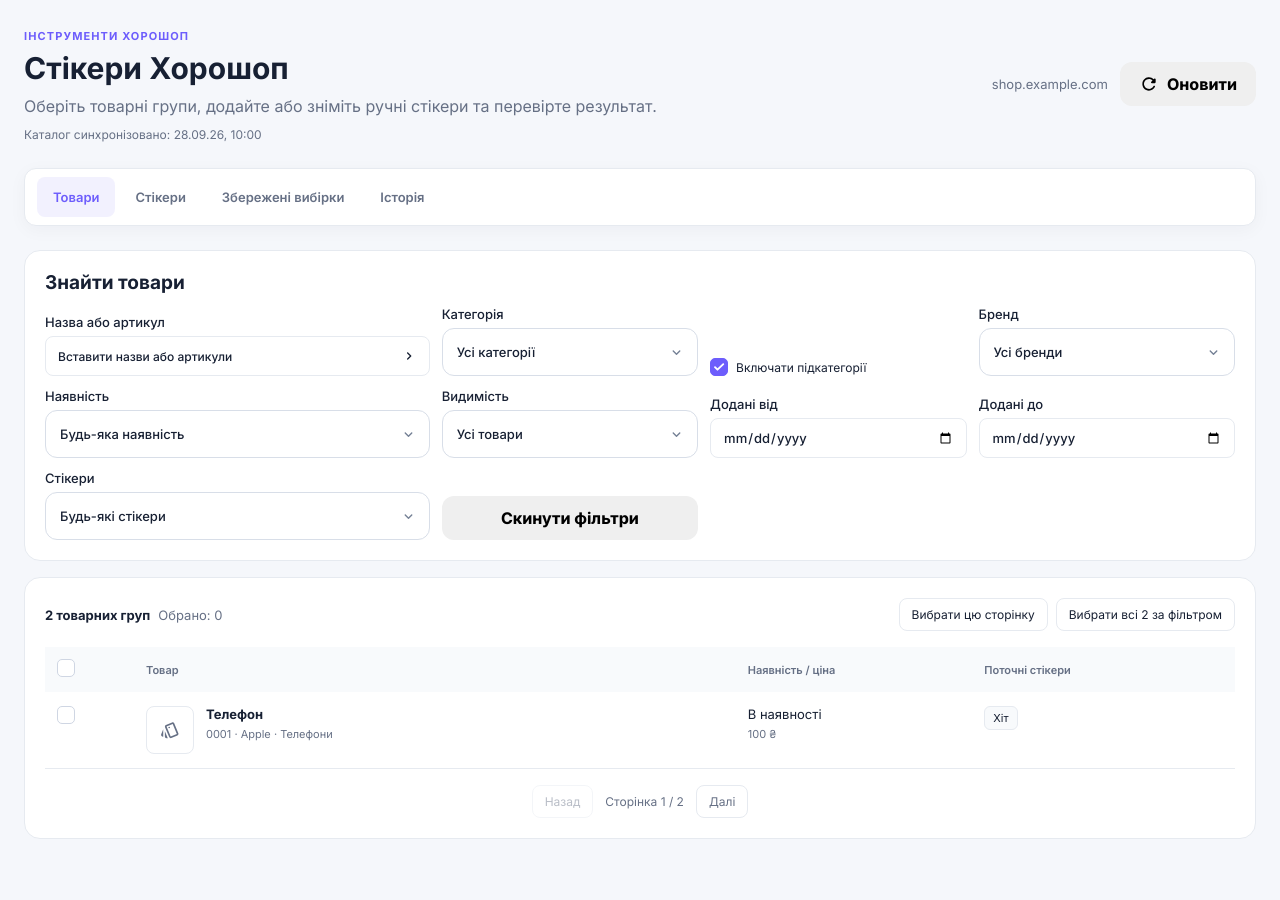
Test case: HoroshopStickersPage › clears preparation after failure and preserves the selected products and sticker actions for retry
This screenshot has width=1280, height=900.
Click the checkbox named "Обрати 0001".
click(66, 715)  # box [57, 706, 75, 724]
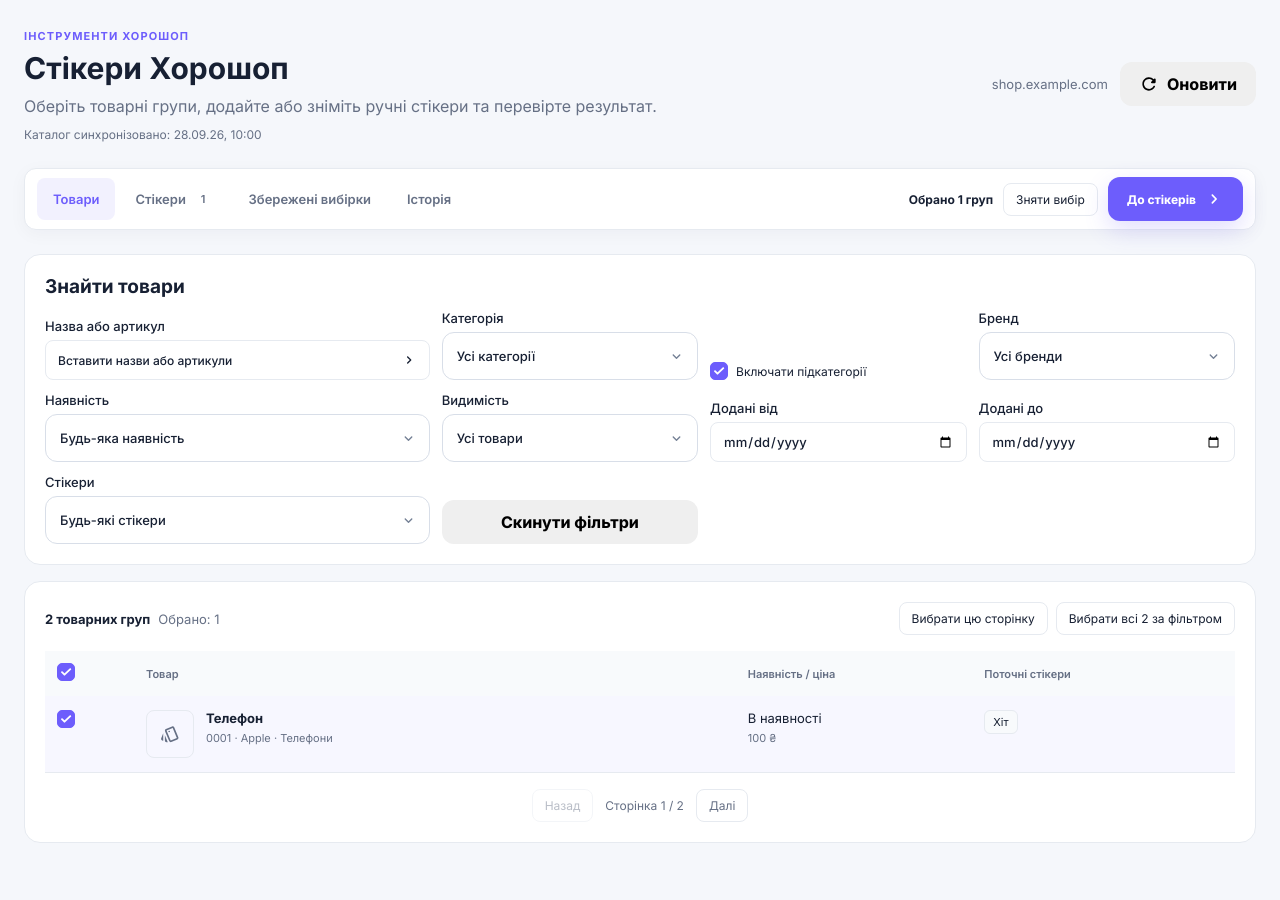
Click the tab "Стікери 1".
click(174, 199)  # box [120, 178, 228, 220]
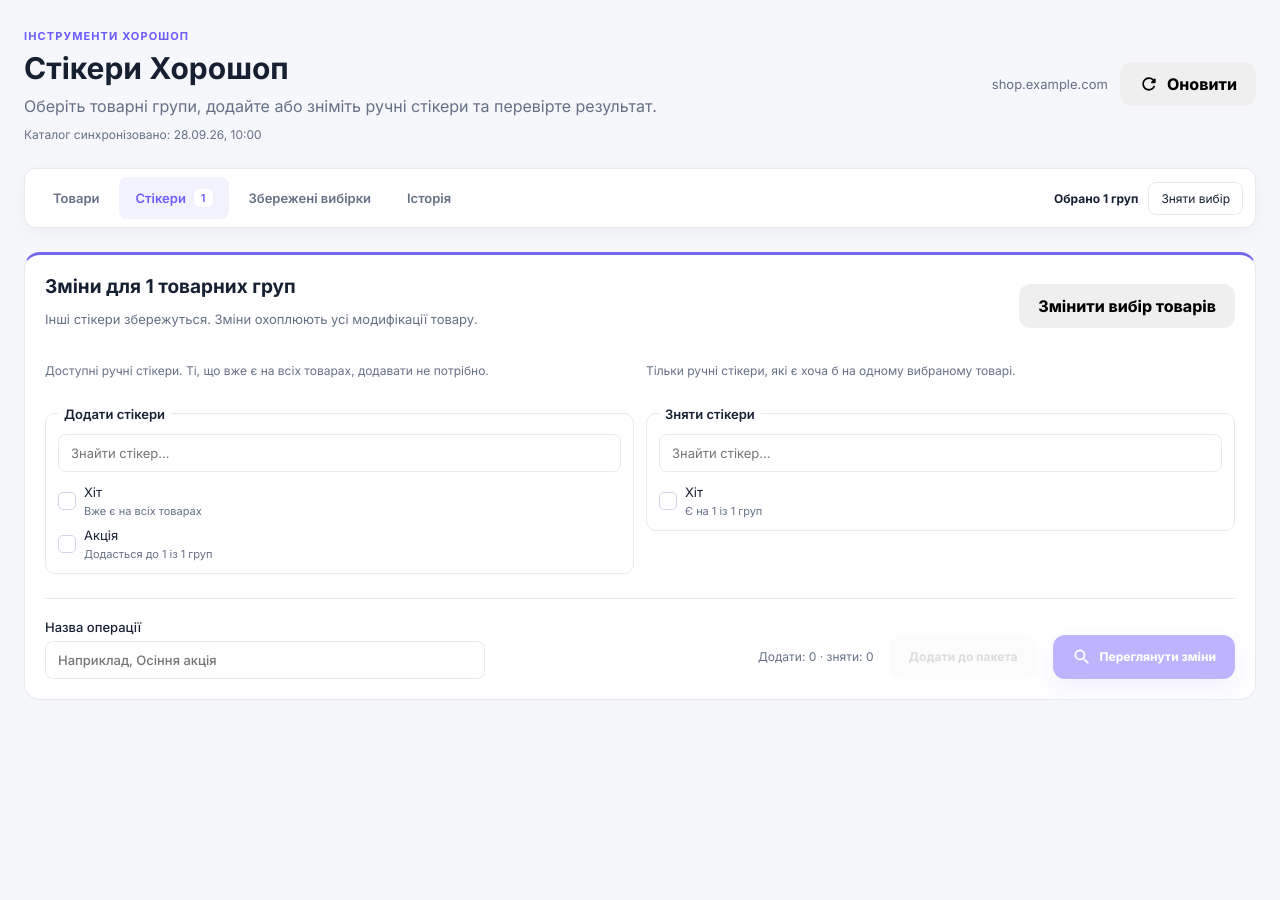
Click the checkbox named "Додати стікери: Акція".
click(67, 544)  # box [58, 534, 76, 552]
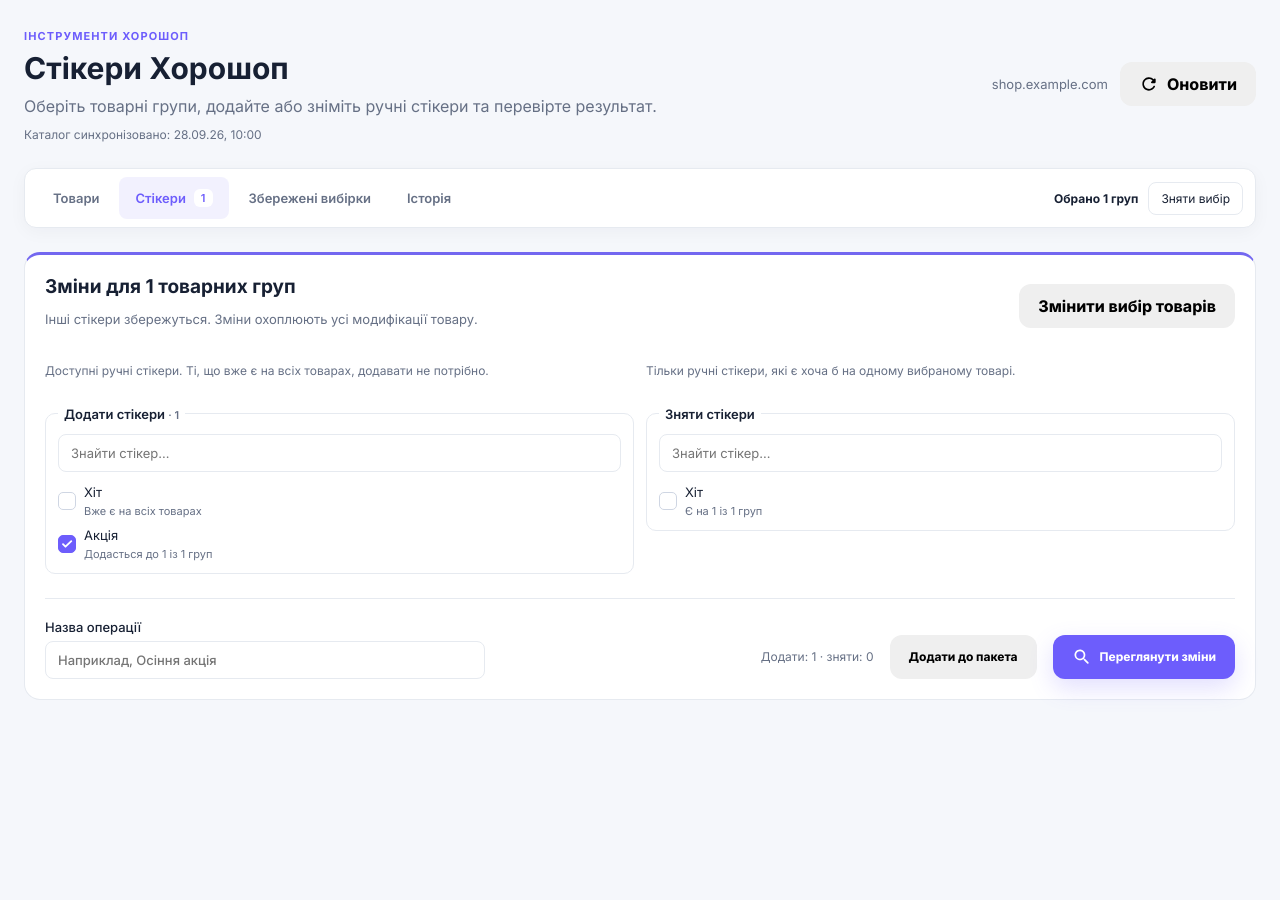
Click the button "Переглянути зміни".
click(1144, 656)  # box [1052, 634, 1235, 678]
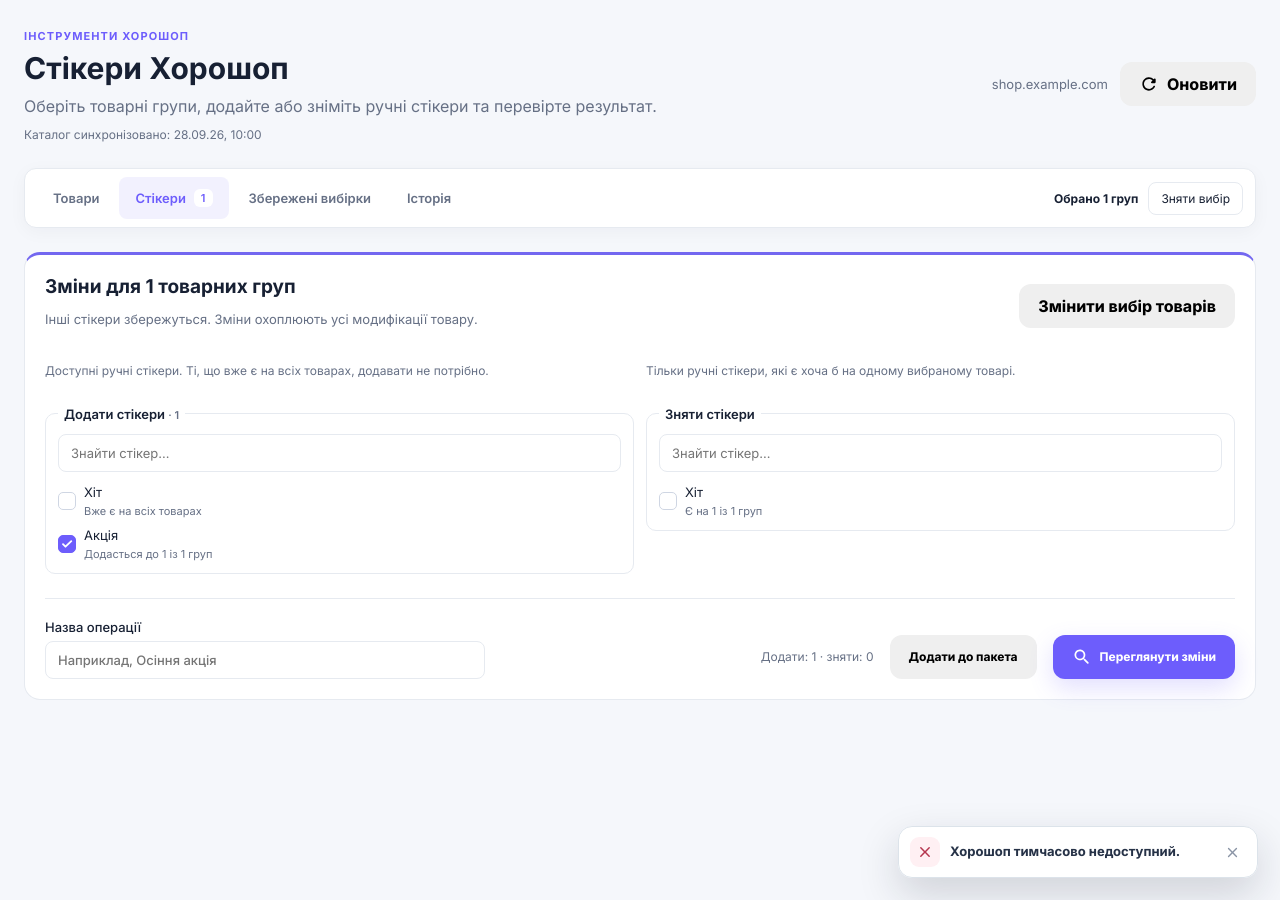
Result: the checkbox named "Додати стікери: Акція" is checked at [58, 534, 76, 552]
Result: the button "Переглянути зміни" is enabled
Result: the text "Хорошоп тимчасово недоступний." is shown at [950, 843, 1208, 861]
Click the button "Переглянути зміни".
click(1144, 656)  # box [1052, 634, 1235, 678]
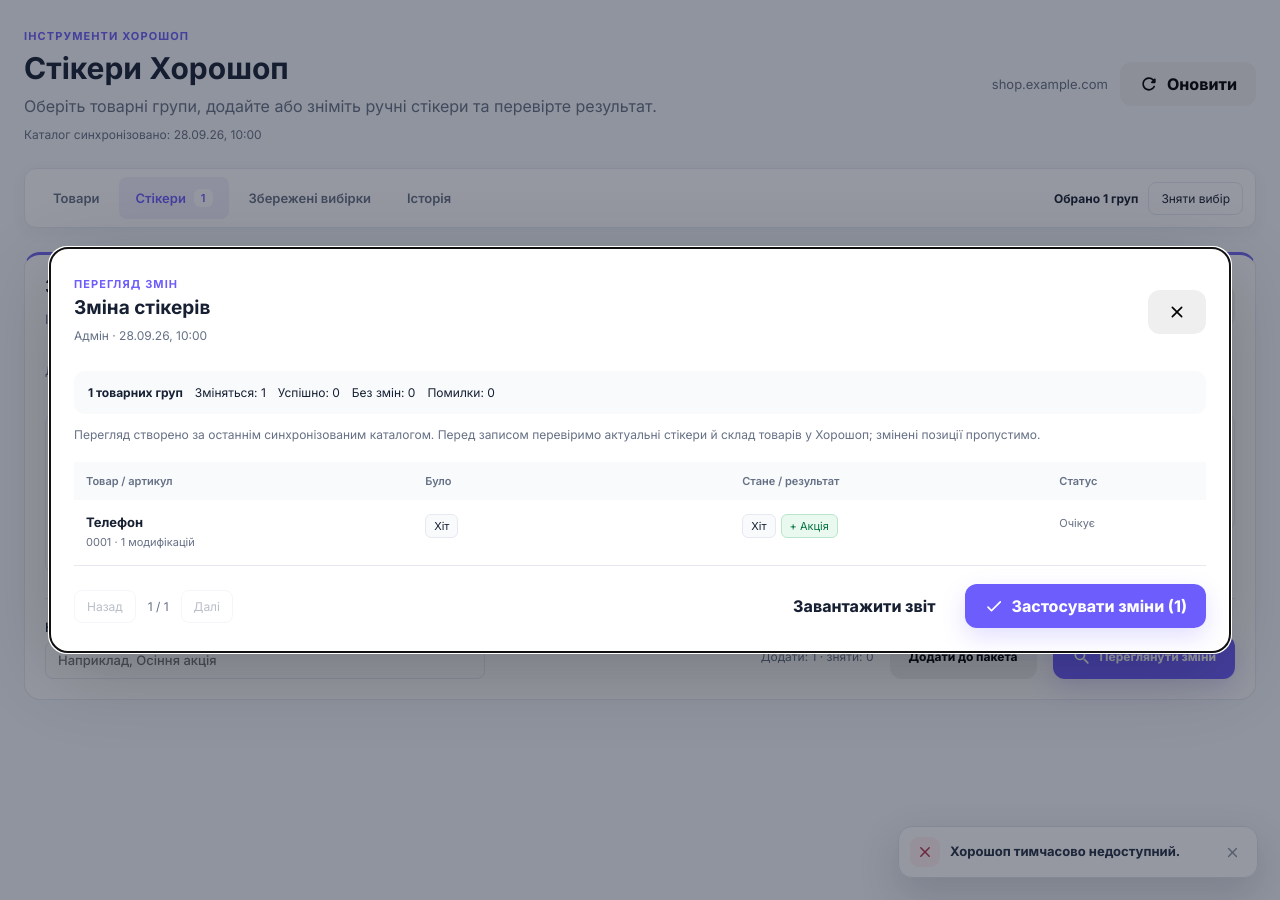
Result: the dialog is shown at [50, 248, 1230, 652]
